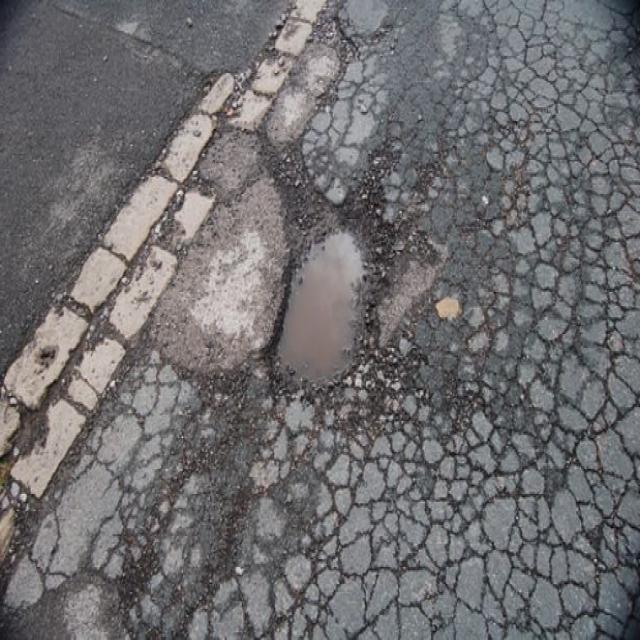Pothole: (256, 200, 396, 394)
